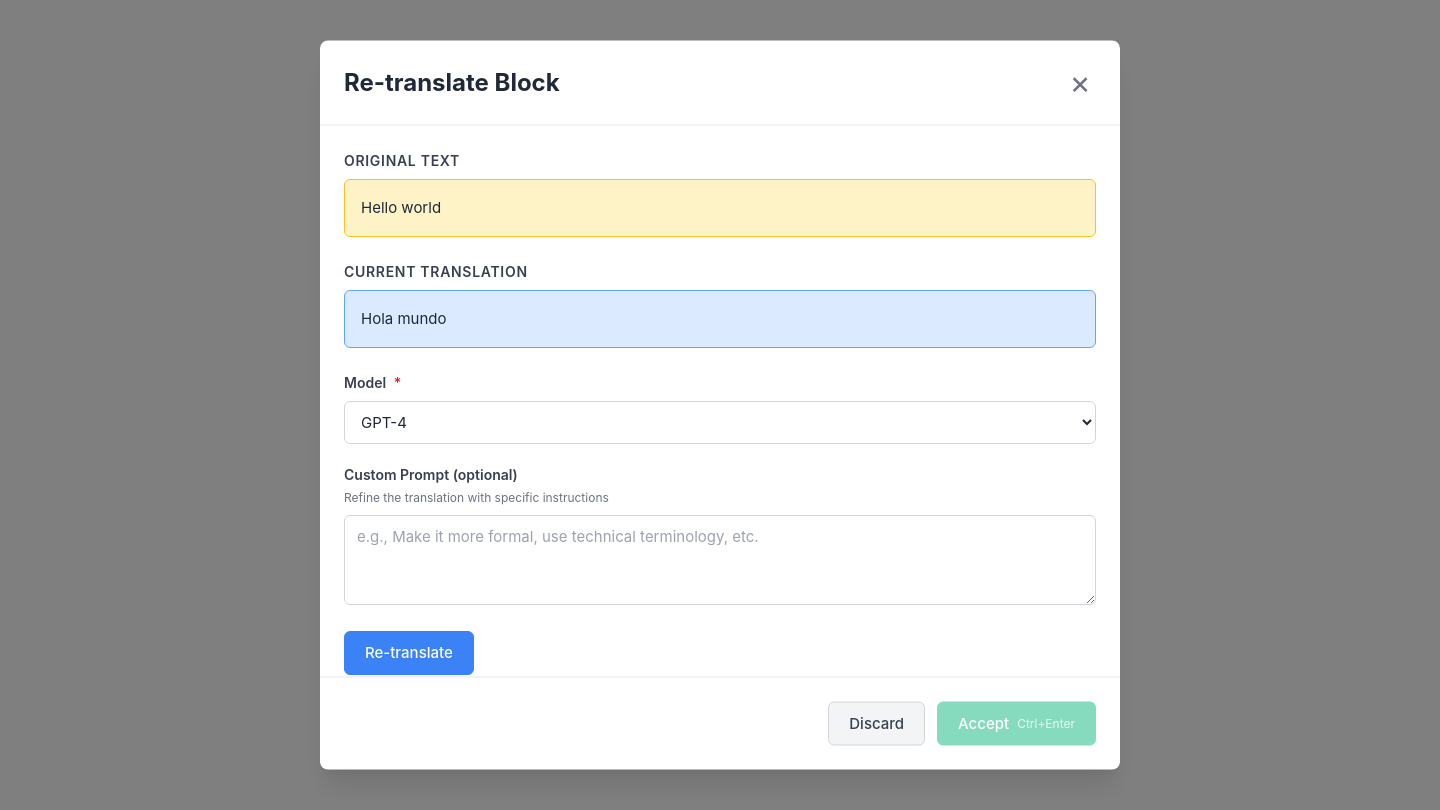
Test: BlockRetranslate Component › Accept Action › accept button is enabled after successful translation
What coordinates should you click on to do the following:
click the button with test id "retranslate-button"
I would click on:
 (409, 652)
Its box is [344,630,474,674].
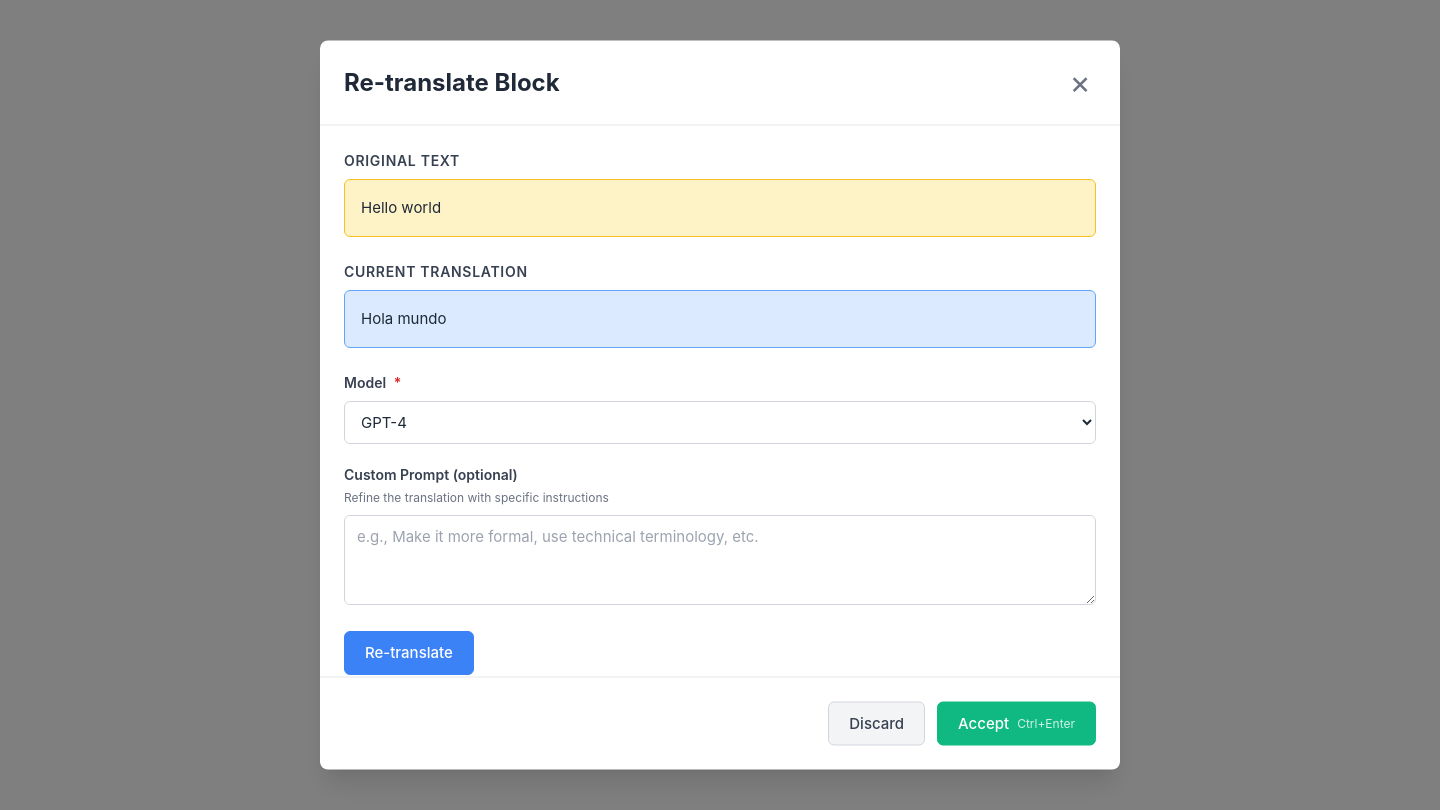
expect the button with test id "accept-button" is enabled: met, box [937,701,1096,746]
